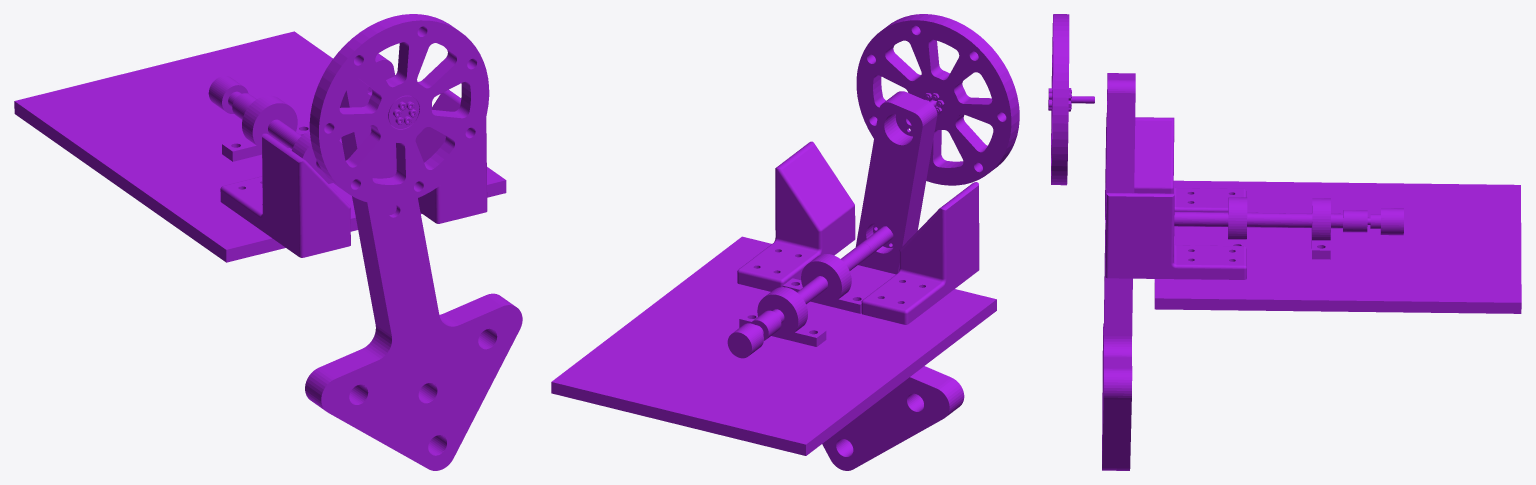
The model's file is pendulo_completo.glb.
3 views of the same model, side by side, from view 1: azimuth 30°, elevation 25°; view 2: azimuth 150°, elevation 25°; view 3: azimuth 270°, elevation 25° (orthographic). The views are drawn at different scales.
Visible parts, largest first — view 1: pendulo_total; view 2: pendulo_total; view 3: pendulo_total.
Boxes of the visible parts, box(x1,y1,x2,y2) form: pendulo_total: box(14, 14, 522, 470); pendulo_total: box(551, 14, 1019, 470); pendulo_total: box(1048, 14, 1521, 470).
Size of the model in its own units: 0.2307 by 0.3795 by 0.3871.
